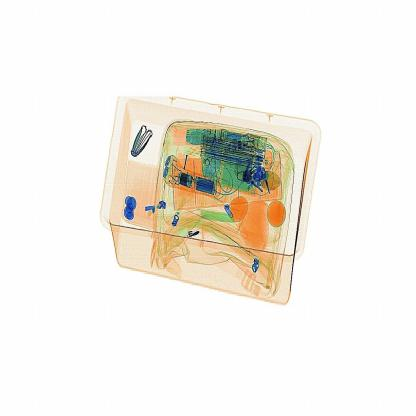pliers: (240, 155, 262, 196)
